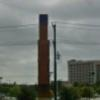chimneys: (38, 14, 50, 98)
